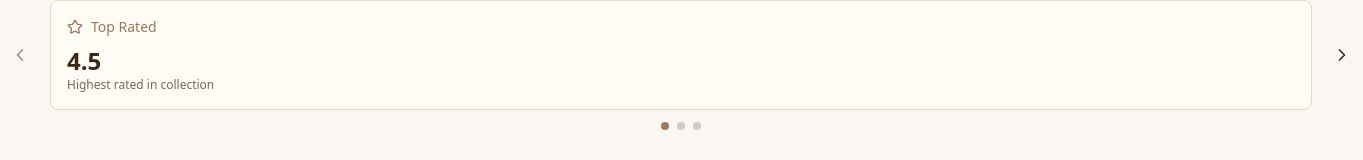
Test: StatsCarousel › navigates to the correct slide when clicking on indicator dots
Expected: the element showing "Top Rated 4.5 Highest rated in collection" is shown, [67,17,214,93]
Step 1. Click the tab named "Go to slide 3" → (697, 126), box [693,122,701,130]
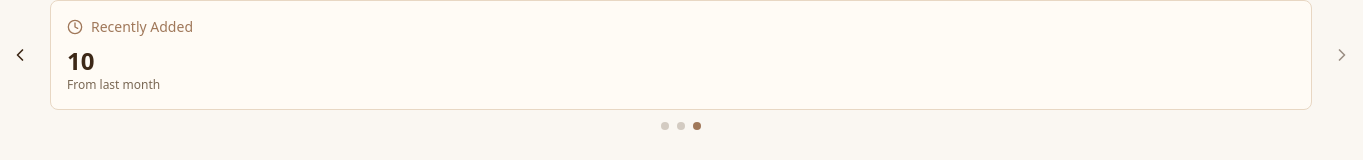
Expected: the element showing "Recently Added 10 From last month" is shown, [67,17,193,93]
Step 2. Click the tab named "Go to slide 2" → (681, 126), box [677,122,685,130]
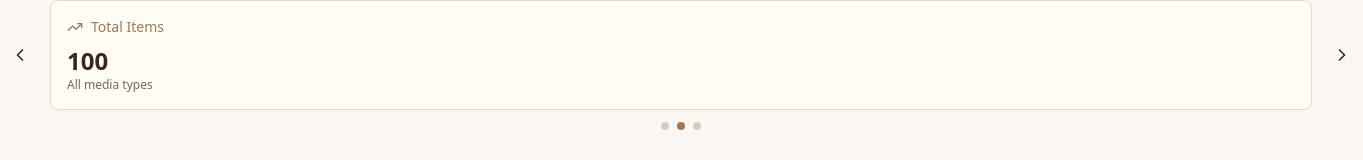
Expected: the element showing "Total Items 100 All media types" is shown, [67,17,164,93]
Step 3. Click the tab named "Go to slide 1" → (665, 126), box [661,122,669,130]
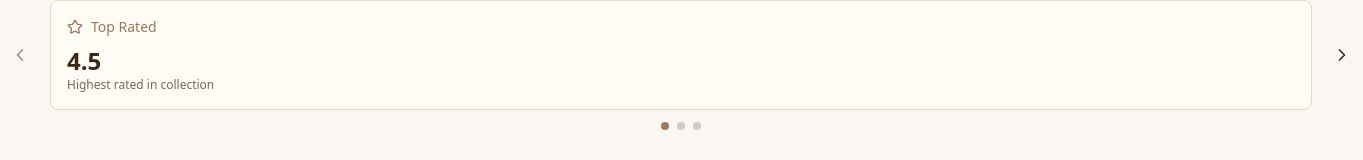
Expected: the element showing "Top Rated 4.5 Highest rated in collection" is shown, [67,17,214,93]
